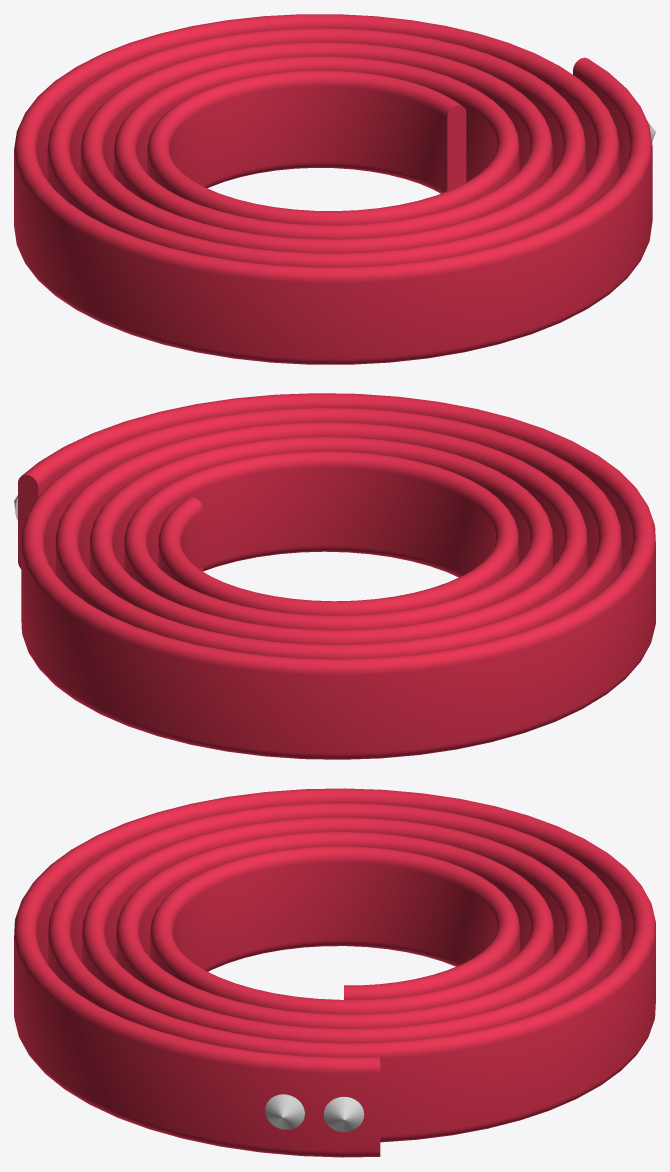
File: tourniquet.fbx
The picture shows the model from 3 angles, top to bottom: view 1: azimuth 30°, elevation 25°; view 2: azimuth 150°, elevation 25°; view 3: azimuth 270°, elevation 25°; orthographic projection. The views are drawn at different scales.
Visible parts, largest first — view 1: Жгут; view 2: Жгут; view 3: Жгут.
Boxes of the visible parts, <box> form: Жгут: <box>14,14,655,364</box>; Жгут: <box>14,393,655,759</box>; Жгут: <box>14,788,655,1157</box>.
Size of the model in its own units: 1202 by 190 by 1129.
